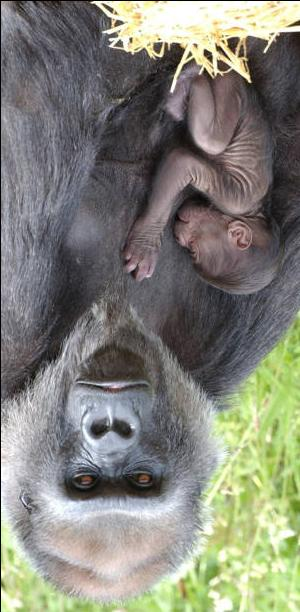gorille_Autres: (0, 276, 295, 612)
